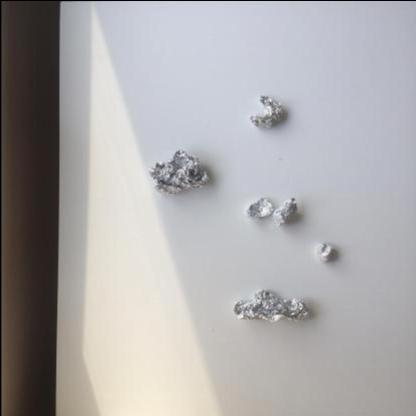Aluminium foil: (148, 149, 209, 195), (232, 290, 308, 322), (247, 96, 281, 127), (270, 196, 298, 226), (243, 196, 273, 219), (314, 242, 332, 261)
